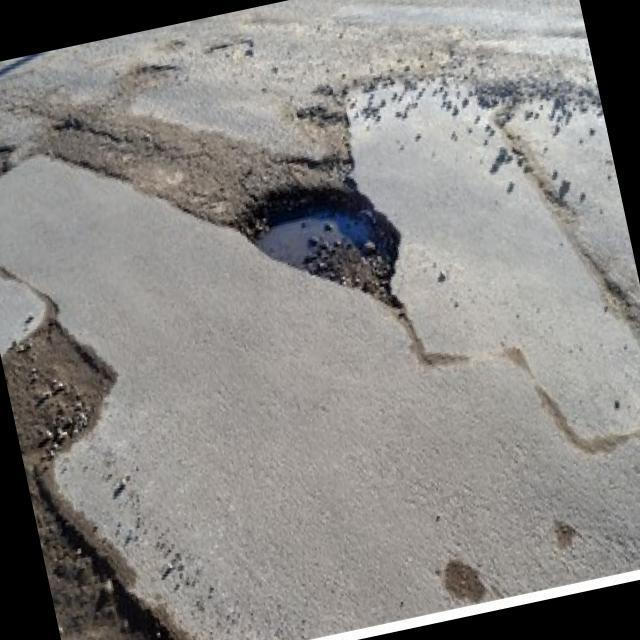Pothole: (227, 163, 416, 339), (0, 134, 16, 180)
